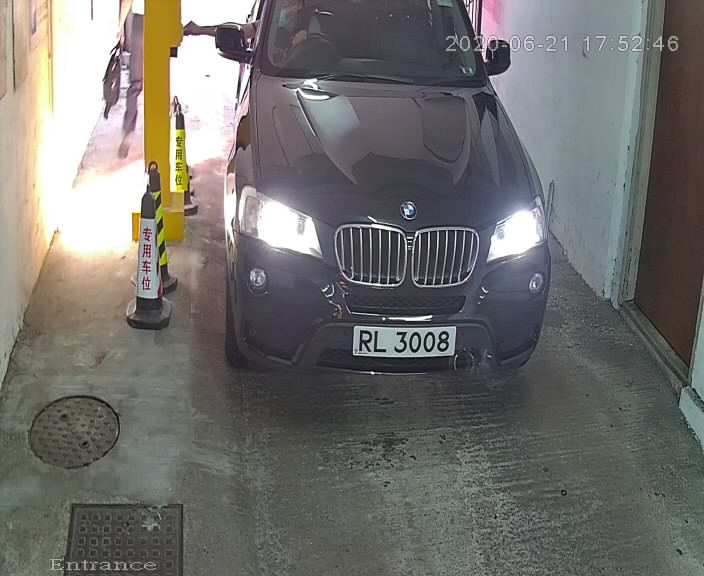privatecar: (202, 1, 569, 399)
